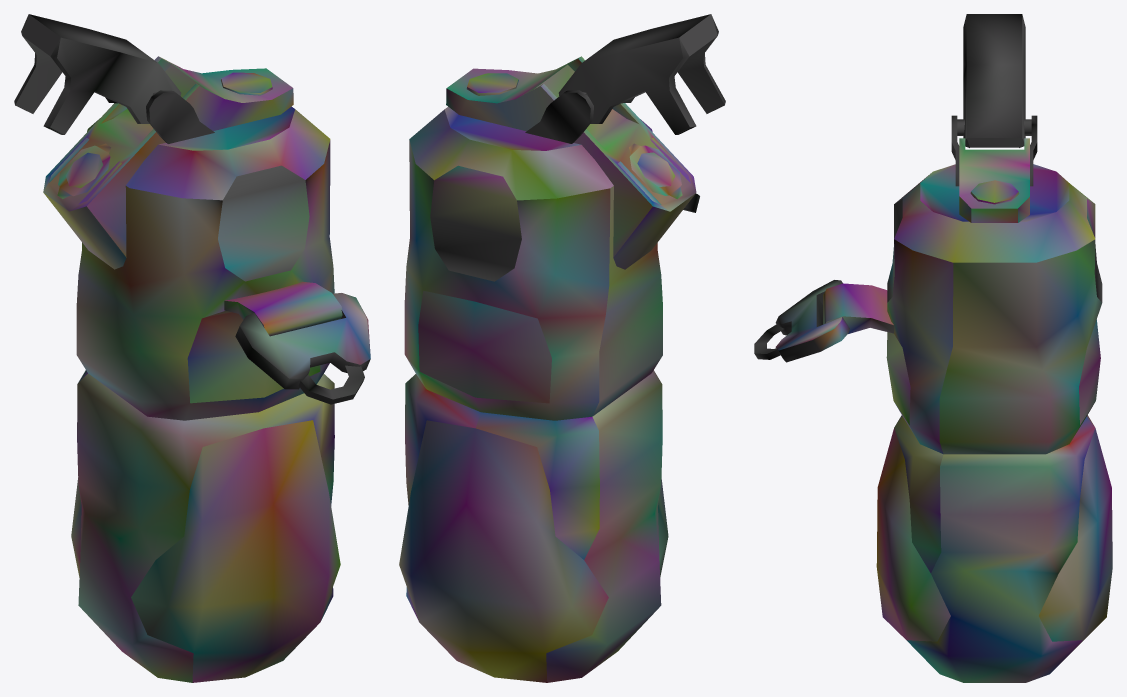
Rendered from ASE_Proj_ImpactGrenade_3p.gltf.
3 views of the same model, side by side, from view 1: azimuth 30°, elevation 25°; view 2: azimuth 150°, elevation 25°; view 3: azimuth 270°, elevation 25° (orthographic). The views are drawn at different scales.
Parts seen in each view (by area): view 1: ASE_Proj_ImpactGrenade_3p; view 2: ASE_Proj_ImpactGrenade_3p; view 3: ASE_Proj_ImpactGrenade_3p.
Boxes of the visible parts, x1,y1,x2,y2 form: ASE_Proj_ImpactGrenade_3p: (14, 14, 370, 682); ASE_Proj_ImpactGrenade_3p: (399, 14, 725, 682); ASE_Proj_ImpactGrenade_3p: (754, 14, 1112, 682).
Size of the model in its own units: 0.0738 by 0.1665 by 0.0944.
